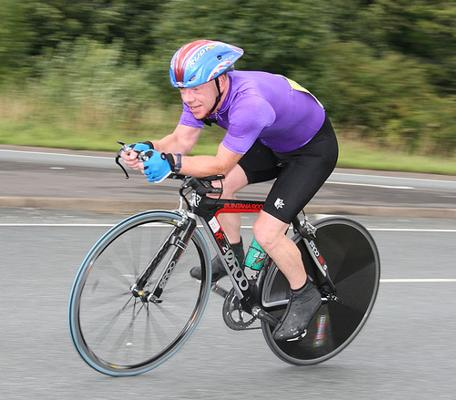person: (118, 40, 339, 344)
